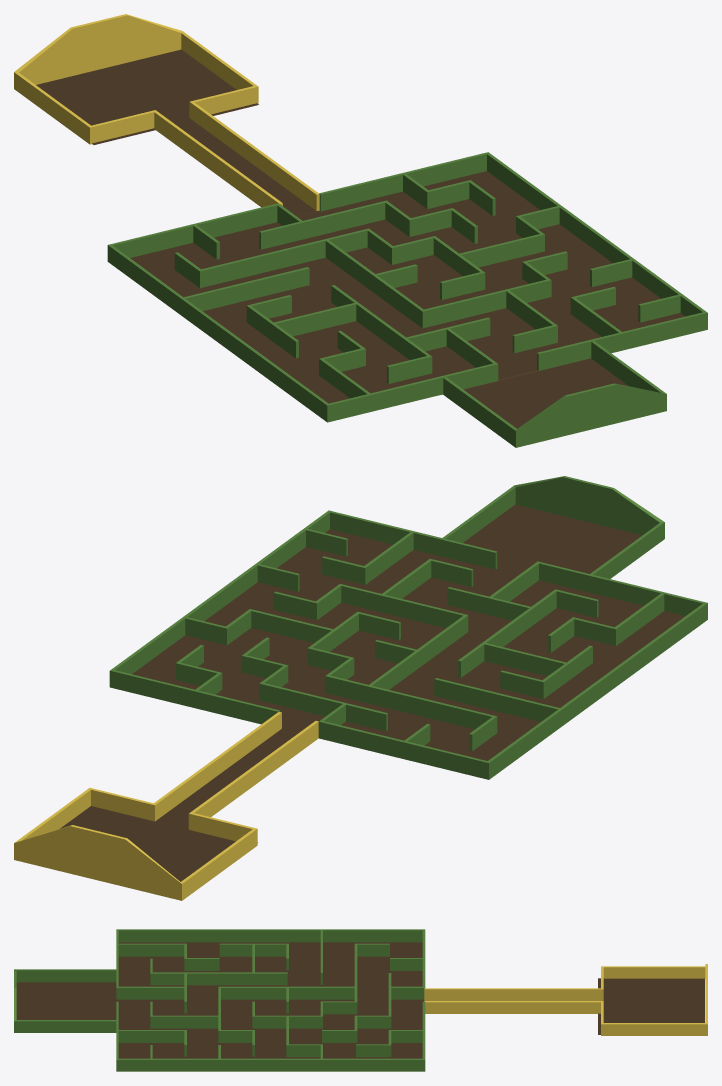
The model's file is mazeMed.gltf.
3 views of the same model, one above another, from view 1: azimuth 30°, elevation 25°; view 2: azimuth 150°, elevation 25°; view 3: azimuth 270°, elevation 25° (orthographic). The views are drawn at different scales.
Visible parts, largest first — view 1: Walls, Ground.001, Winning Walls, Ground Win; view 2: Walls, Ground.001, Winning Walls, Ground Win; view 3: Walls, Ground.001, Winning Walls, Ground Win.
Part boxes in pixels (<box>): Walls: <box>107,152,707,447</box>; Ground.001: <box>130,171,685,428</box>; Winning Walls: <box>14,14,319,210</box>; Ground Win: <box>36,49,316,215</box>; Walls: <box>109,476,707,779</box>; Ground.001: <box>132,504,685,760</box>; Winning Walls: <box>14,712,318,900</box>; Ground Win: <box>60,728,298,881</box>; Walls: <box>14,929,425,1071</box>; Ground.001: <box>16,942,424,1058</box>; Winning Walls: <box>424,964,707,1035</box>; Ground Win: <box>598,978,704,1034</box>.
Size of the model in its own units: 5.93 by 0.7107 by 13.3.
